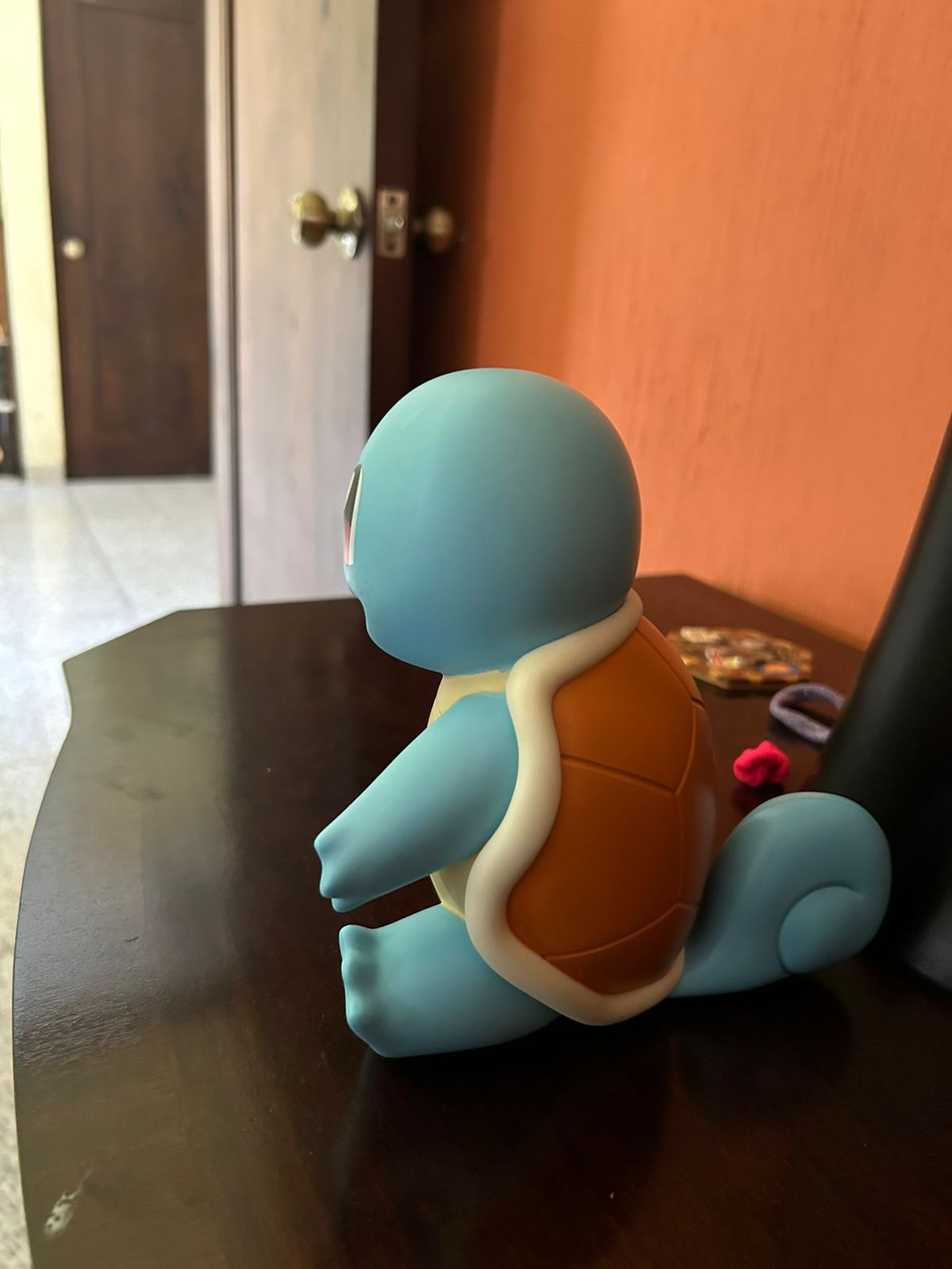Squirtle: (316, 370, 888, 1054)
